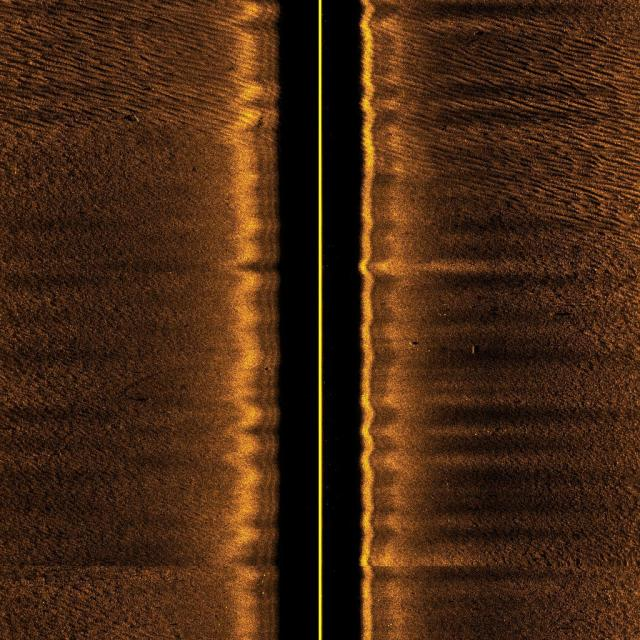mine: (122, 112, 142, 122), (468, 343, 483, 356)
